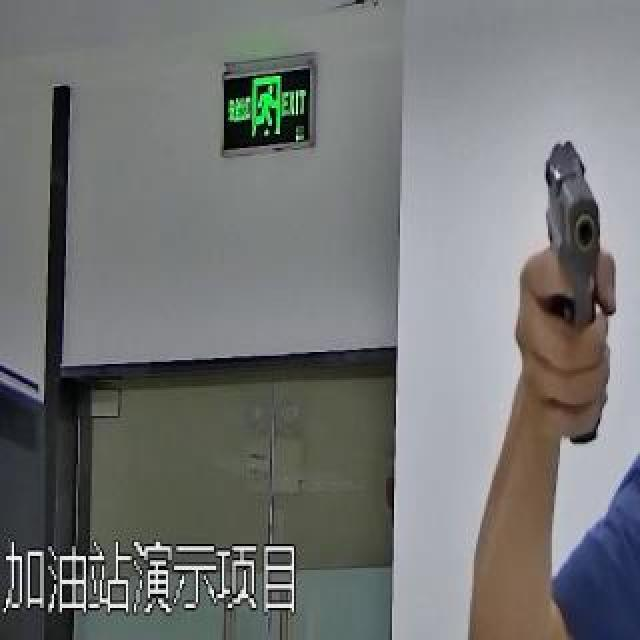Guns: (513, 113, 625, 440)
